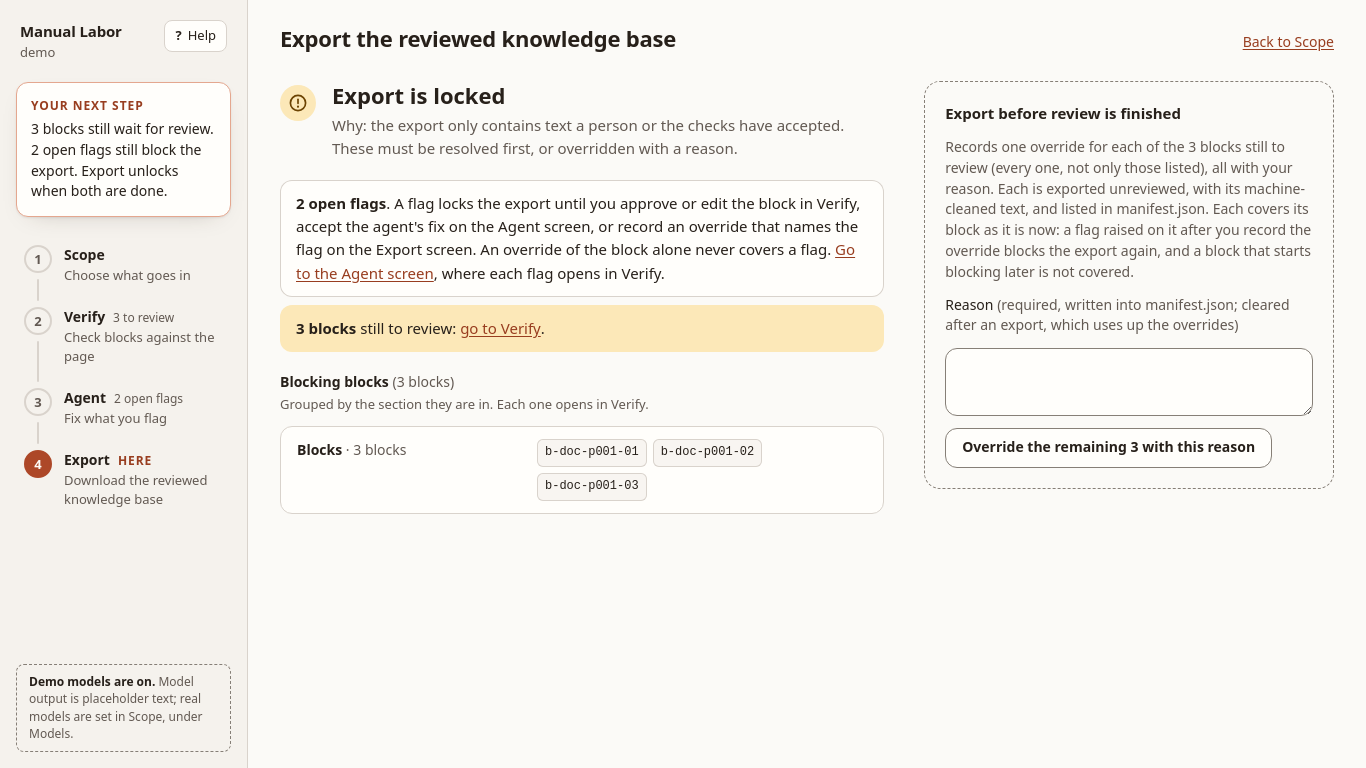
U10 ExportScreen › a 422 on one blocker does not stop the others from being recorded
Expected: the element with test id "export-locked" is shown, [280,81,884,514]
Type "deadline" into the text box with test id "override-reason" at (1129, 382), box [945,348,1313,416]
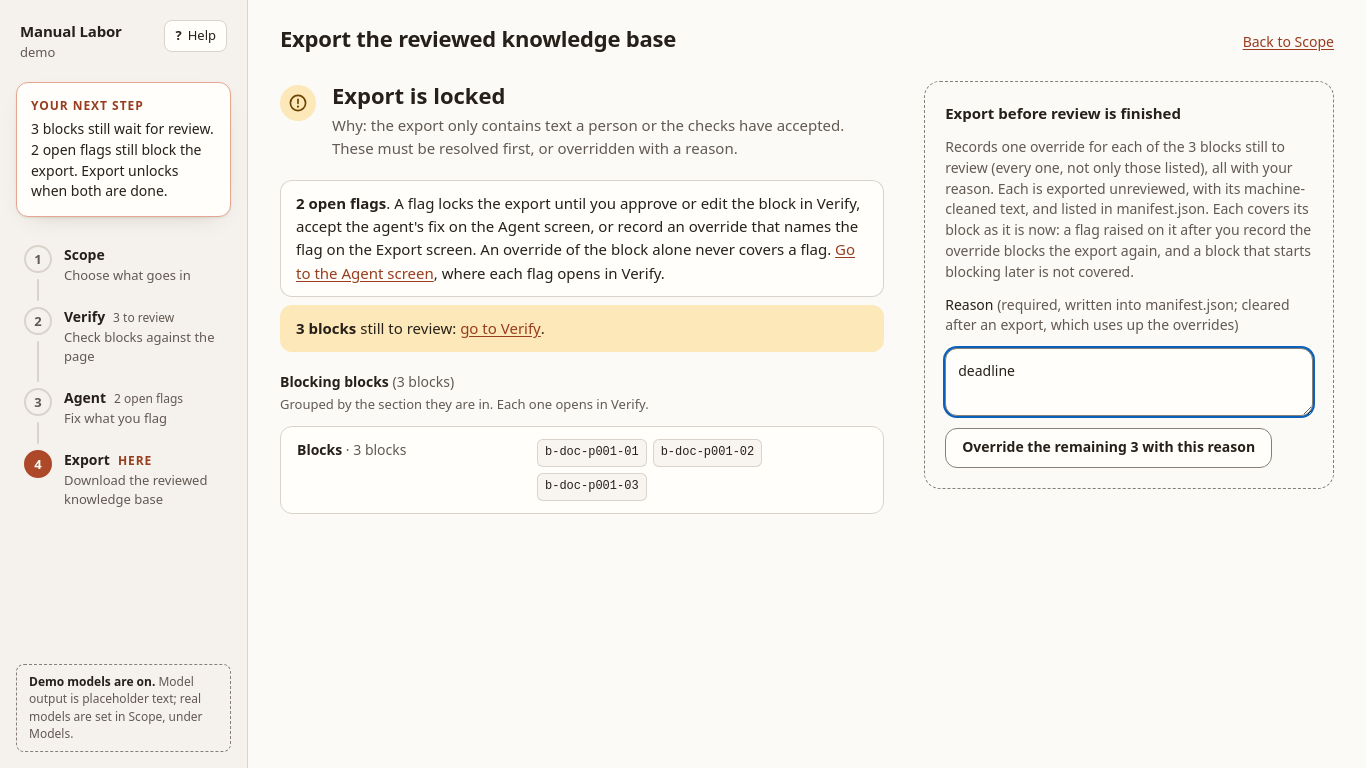
Click the button with test id "override-submit" at (1109, 448), box [945,428,1272,468]
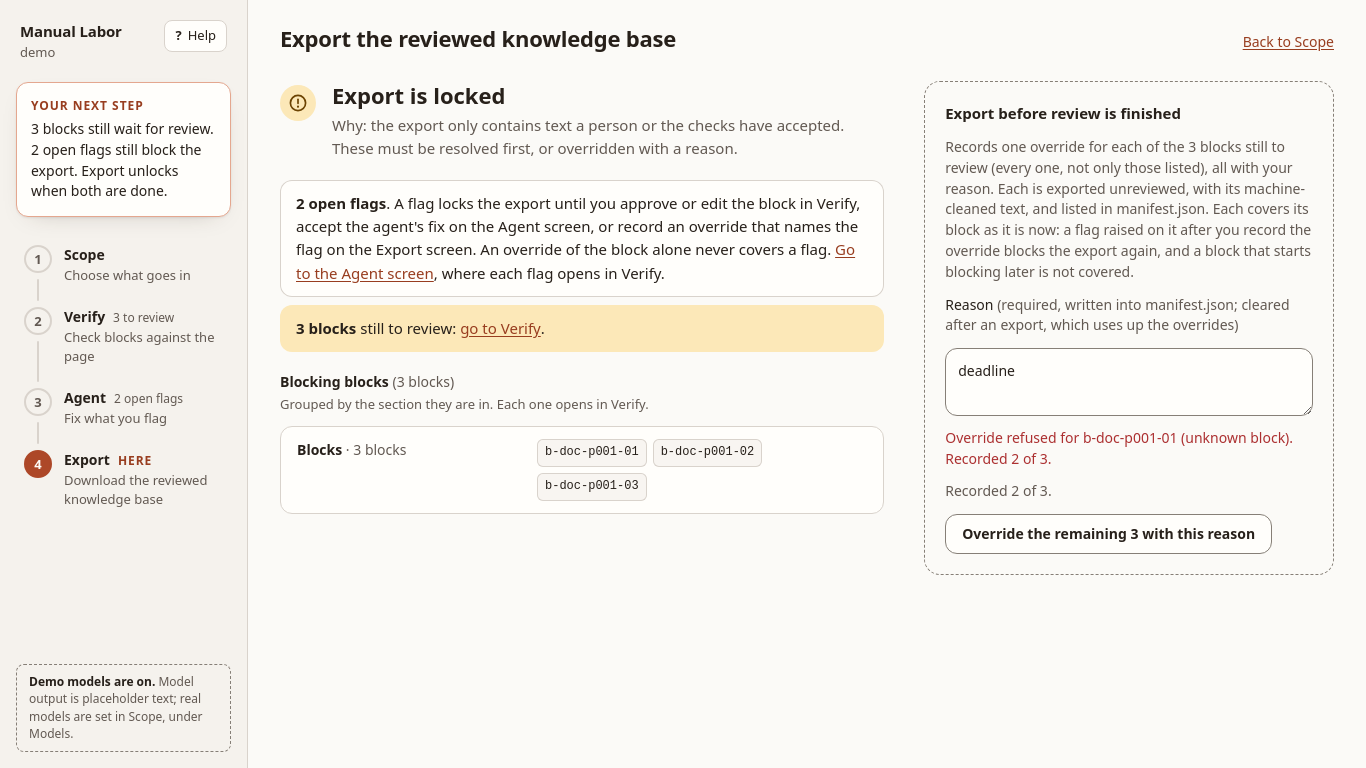
Now the text "Override refused for b-doc-p001-01 (unknown block). Recorded 2 of 3." is shown, box [945,428,1313,469]
